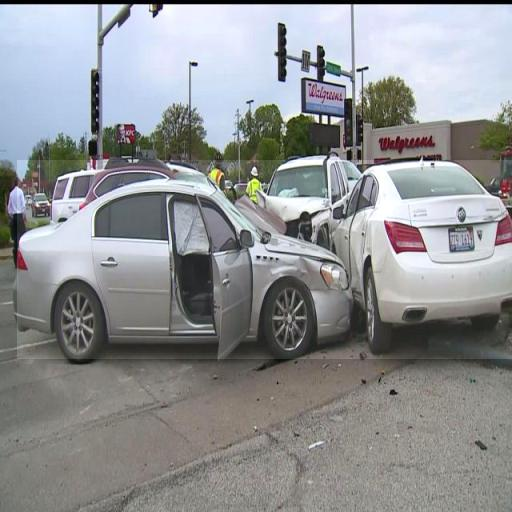小汽车撞小汽车: (17, 160, 512, 359)
